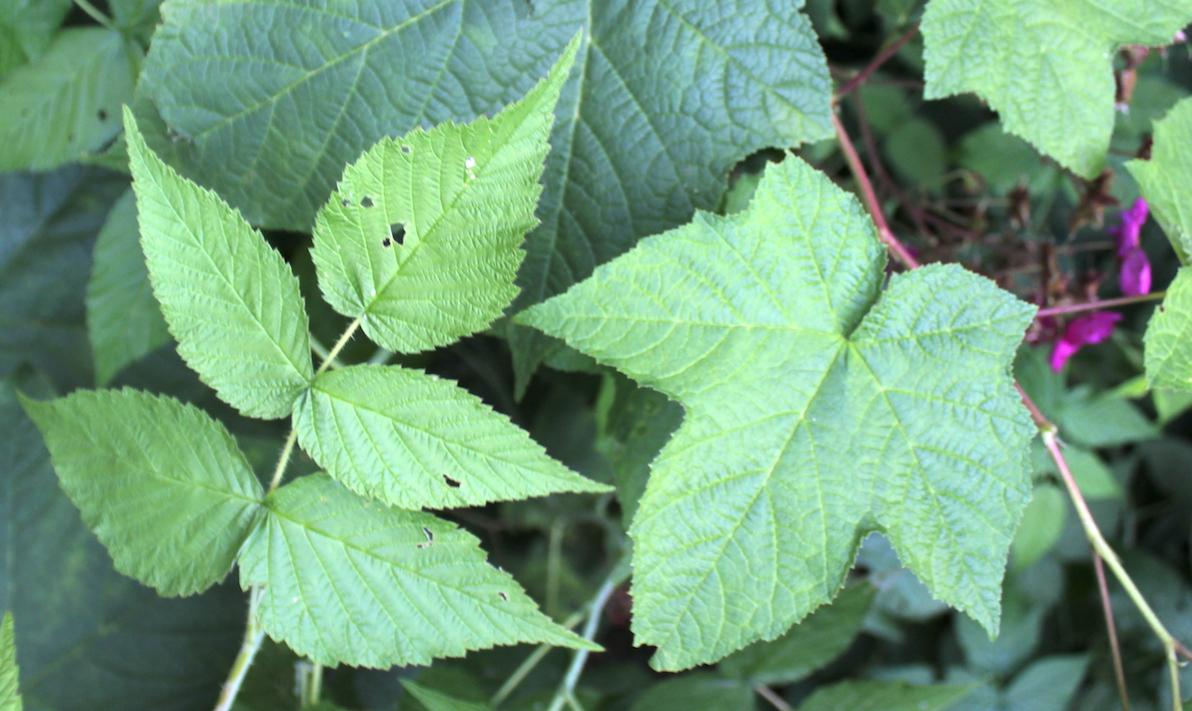Raspberry leaf: (521, 140, 1038, 684), (314, 29, 583, 352), (253, 481, 610, 677), (111, 99, 322, 425), (289, 356, 615, 519)
